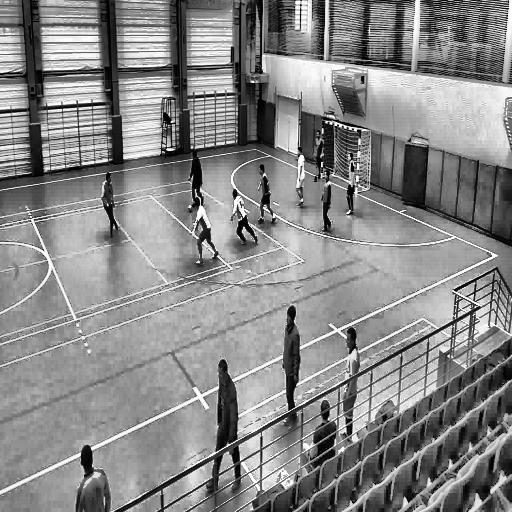ball: (187, 203, 194, 215)
player: (205, 359, 244, 496), (283, 300, 302, 440), (190, 198, 220, 271), (343, 327, 360, 431), (230, 190, 258, 249), (99, 170, 121, 242), (256, 163, 278, 228), (188, 147, 207, 206), (319, 169, 334, 235), (294, 146, 308, 209), (344, 150, 356, 219), (312, 129, 322, 185)
